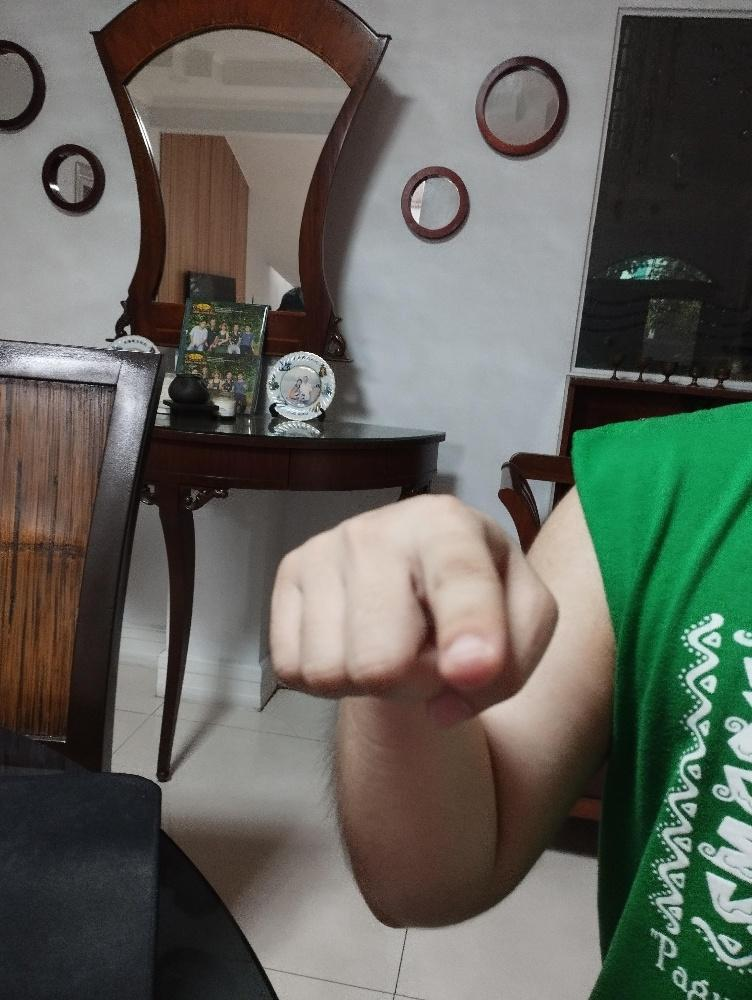z: (266, 489, 562, 727)
